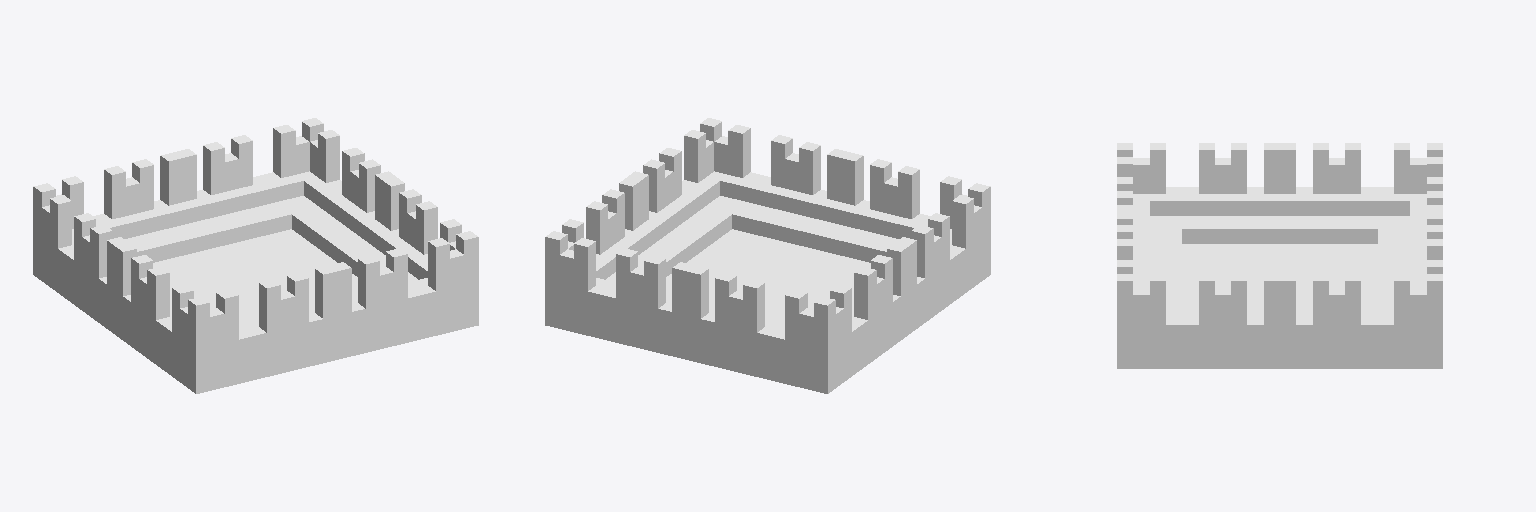
The model's file is Fogon.obj.
The picture shows the model from 3 angles: view 1: azimuth 30°, elevation 25°; view 2: azimuth 150°, elevation 25°; view 3: azimuth 270°, elevation 25°; orthographic projection.
Parts seen in each view (by area): view 1: object 1; view 2: object 1; view 3: object 1.
Boxes of the visible parts, box(x1,y1,x2,y2) form: object 1: box(33, 118, 478, 393); object 1: box(545, 118, 990, 393); object 1: box(1117, 143, 1442, 368).
Bounding box in the file's own units: 2 × 0.6 × 2.